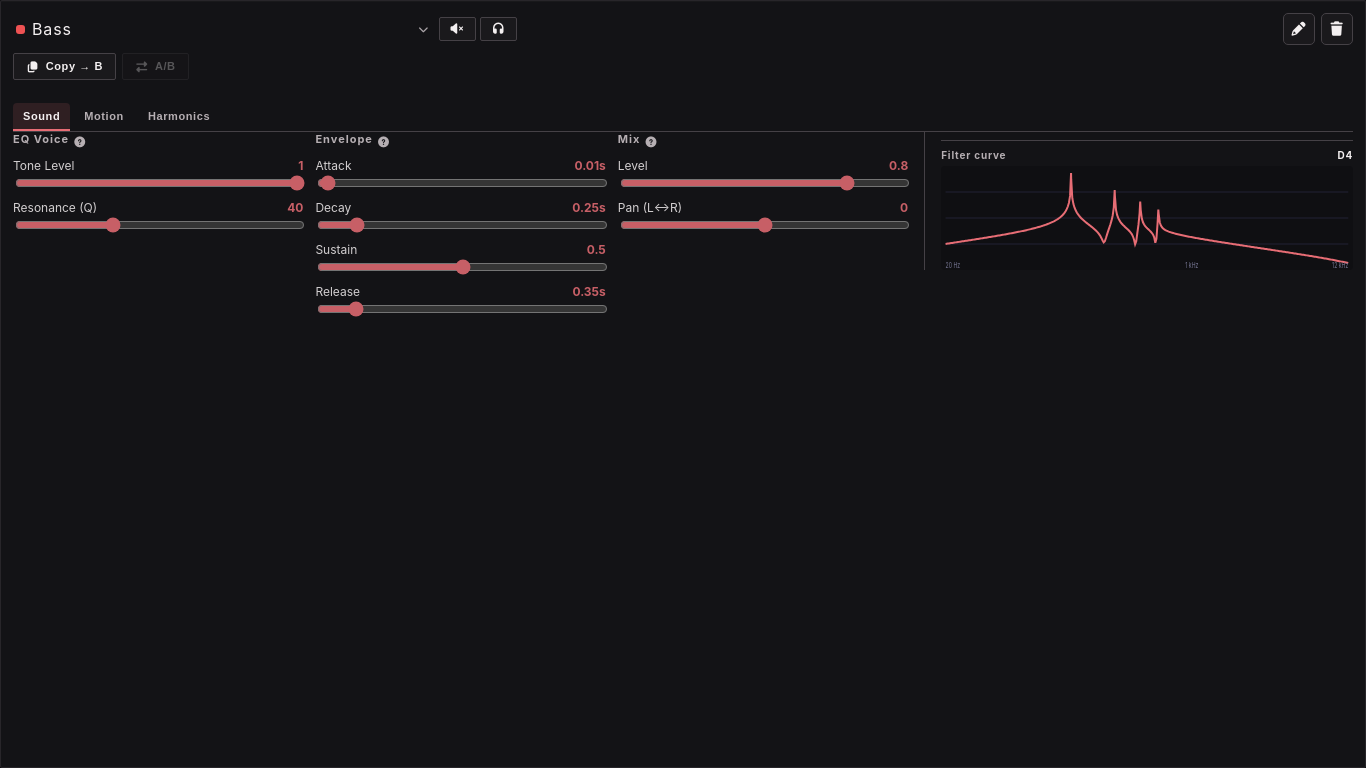
Test case: InstrumentPanel guided editing › organizes specialist controls in Motion and keeps the filter preview visible
This screenshot has width=1366, height=768.
Check: the element named "Filter response preview" is shown, box top-left (941, 140), bottom-right (1353, 270)
Click the tab "Motion". click: click(104, 117)
box: top-left (74, 103), bottom-right (134, 131)
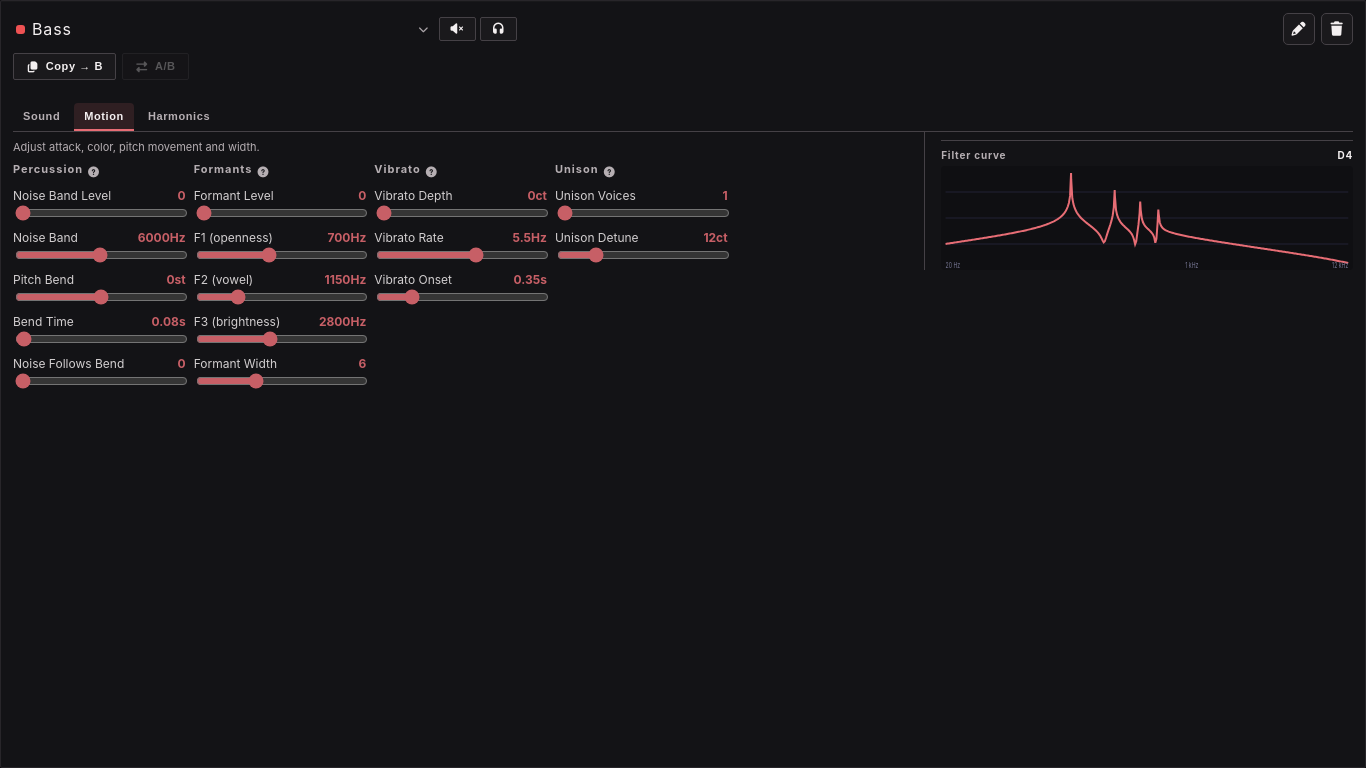
Check: the heading "Percussion" is shown, box top-left (13, 162), bottom-right (83, 176)
Check: the heading "Formants" is shown, box top-left (194, 162), bottom-right (252, 176)
Check: the heading "Vibrato" is shown, box top-left (374, 162), bottom-right (421, 176)
